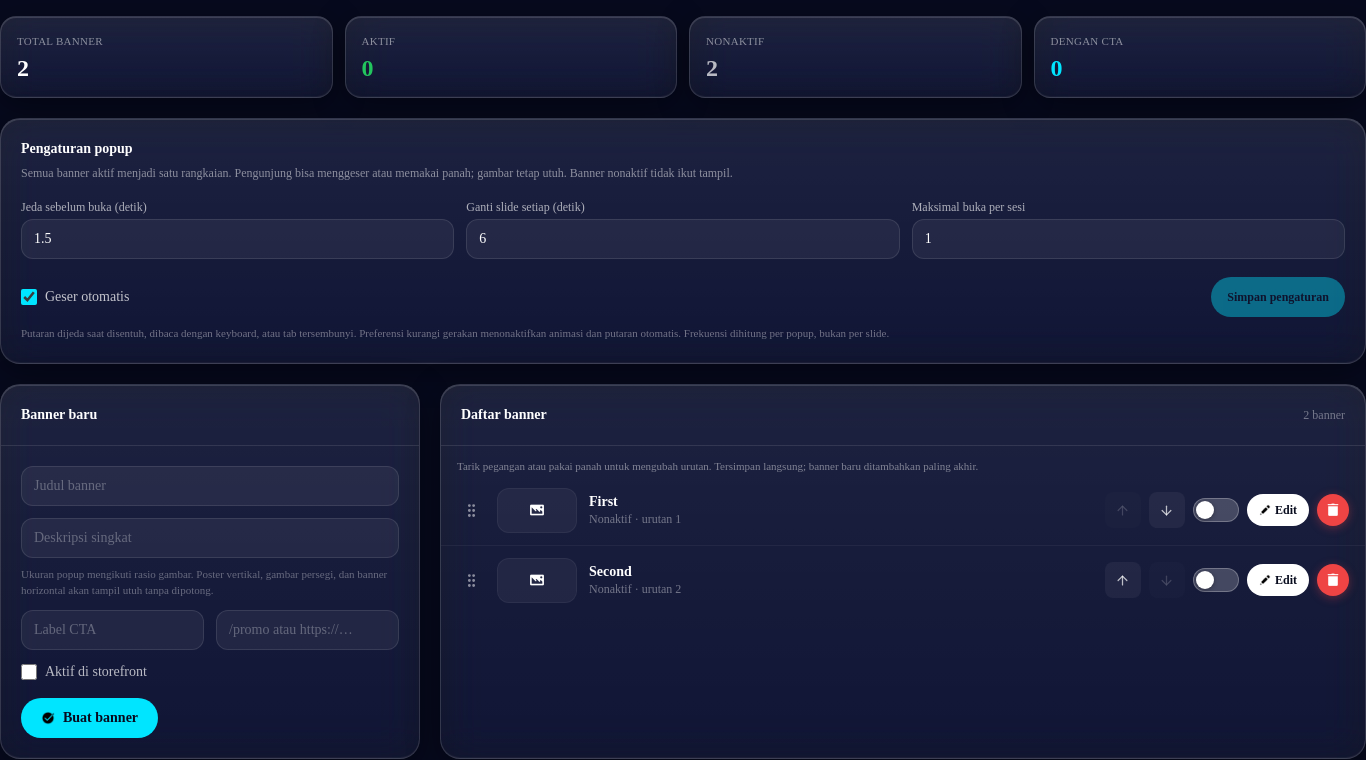
Test: reloads authoritative order on conflict and exposes the error
Click the button named "Naikkan Second": (1123, 580) [1105,562,1141,598]
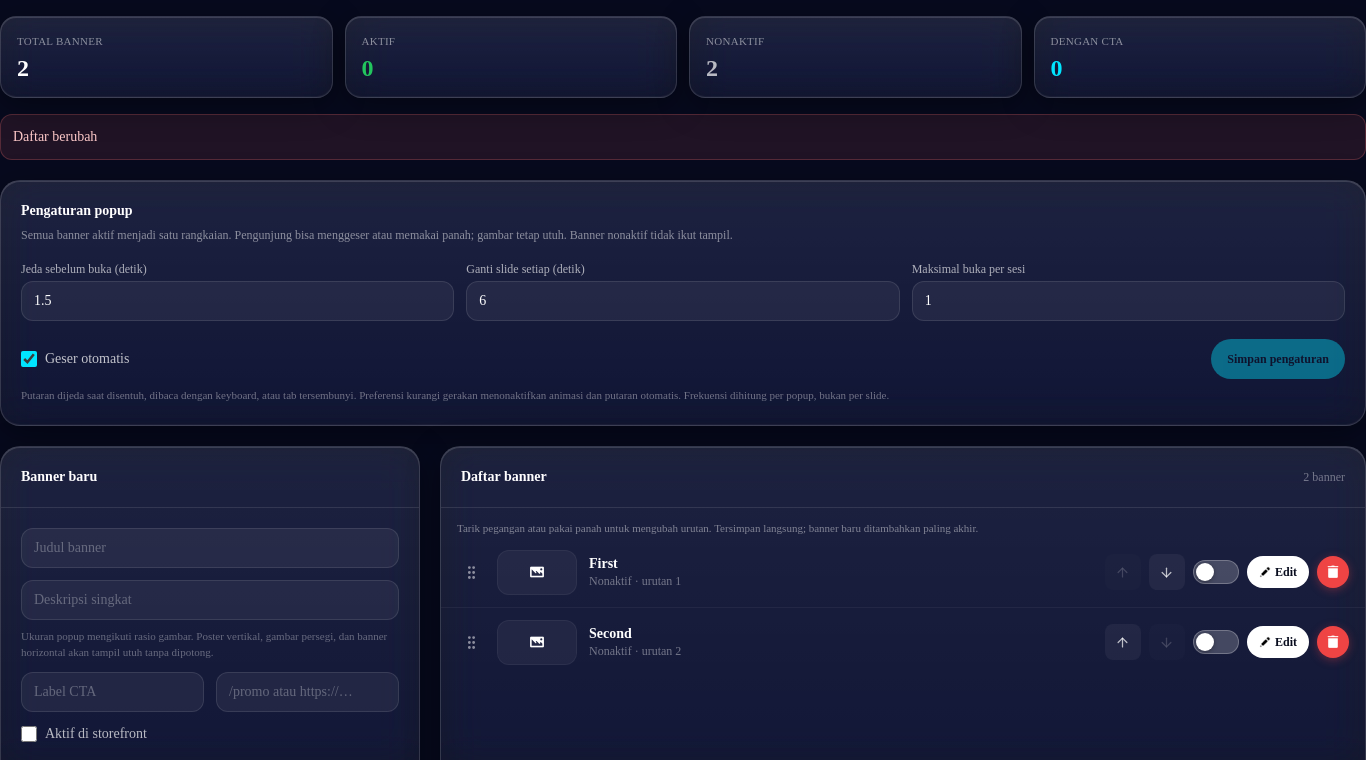
Check: the message reads "Daftar berubah", box [13,129,97,144]
